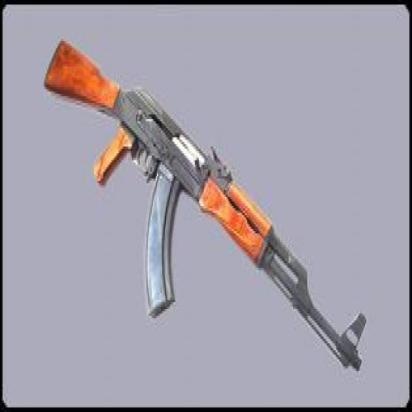Gun: (43, 28, 369, 390)
